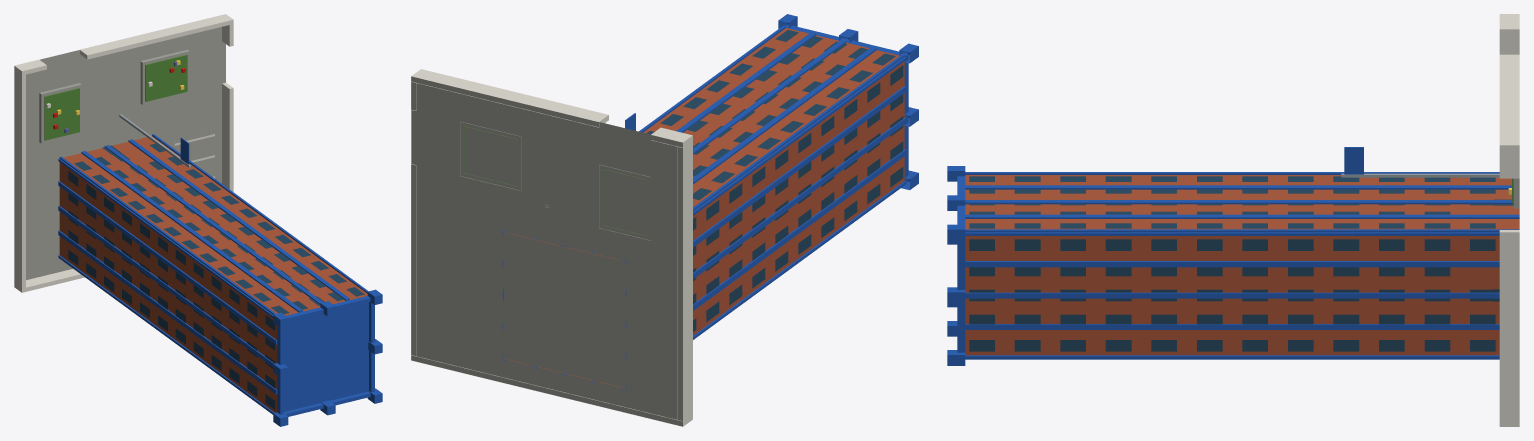
3 views of the same model, side by side, from view 1: azimuth 30°, elevation 25°; view 2: azimuth 150°, elevation 25°; view 3: azimuth 270°, elevation 25° (orthographic). The views are drawn at different scales.
Visible parts, largest first — view 1: object_hq_huge; view 2: object_hq_huge; view 3: object_hq_huge.
Part boxes in pixels (bbox=[...]): object_hq_huge: bbox=[14, 14, 382, 426]; object_hq_huge: bbox=[411, 14, 918, 426]; object_hq_huge: bbox=[947, 14, 1519, 426].
Bounding box in the file's own units: 31.4 × 31.4 × 57.8.
